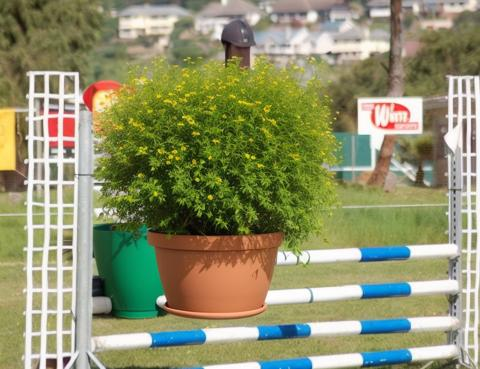person: (163, 22, 266, 199)
pottedplant: (93, 53, 343, 319)
